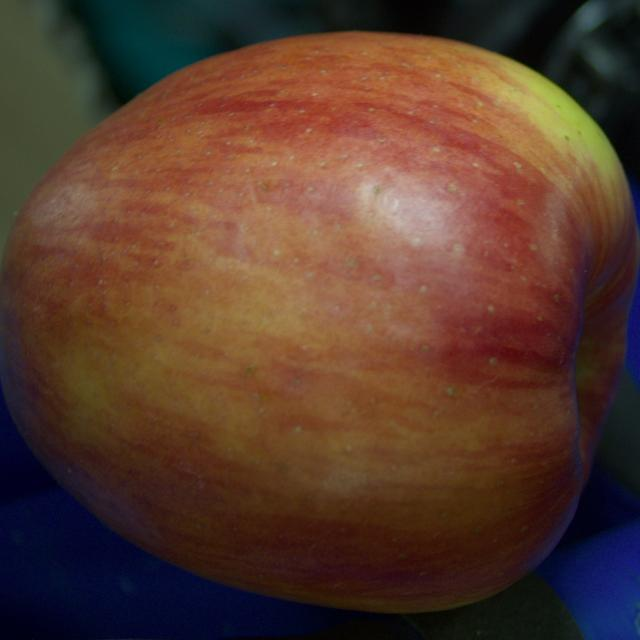apple: (0, 32, 639, 612)
